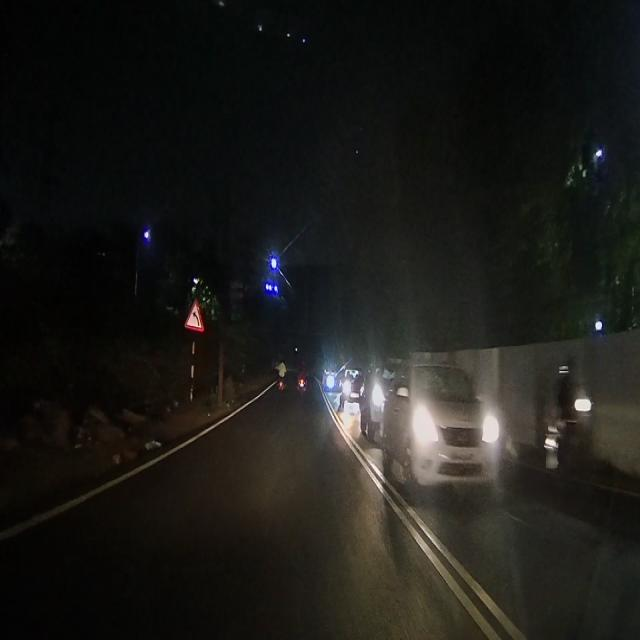left-hand-curve: (185, 301, 204, 337)
